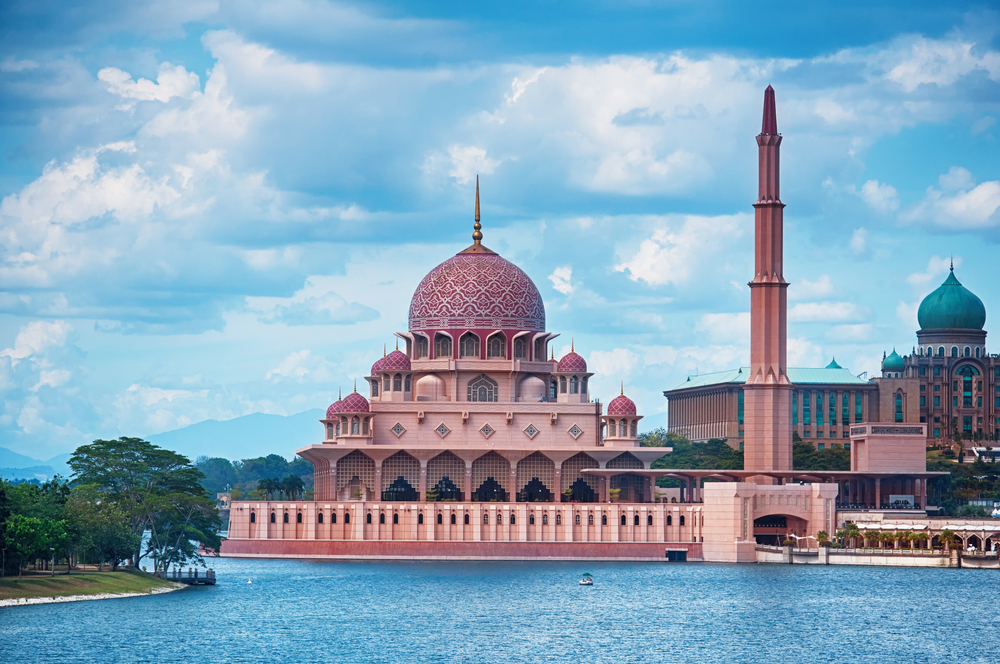Mosque: (302, 83, 836, 556)
